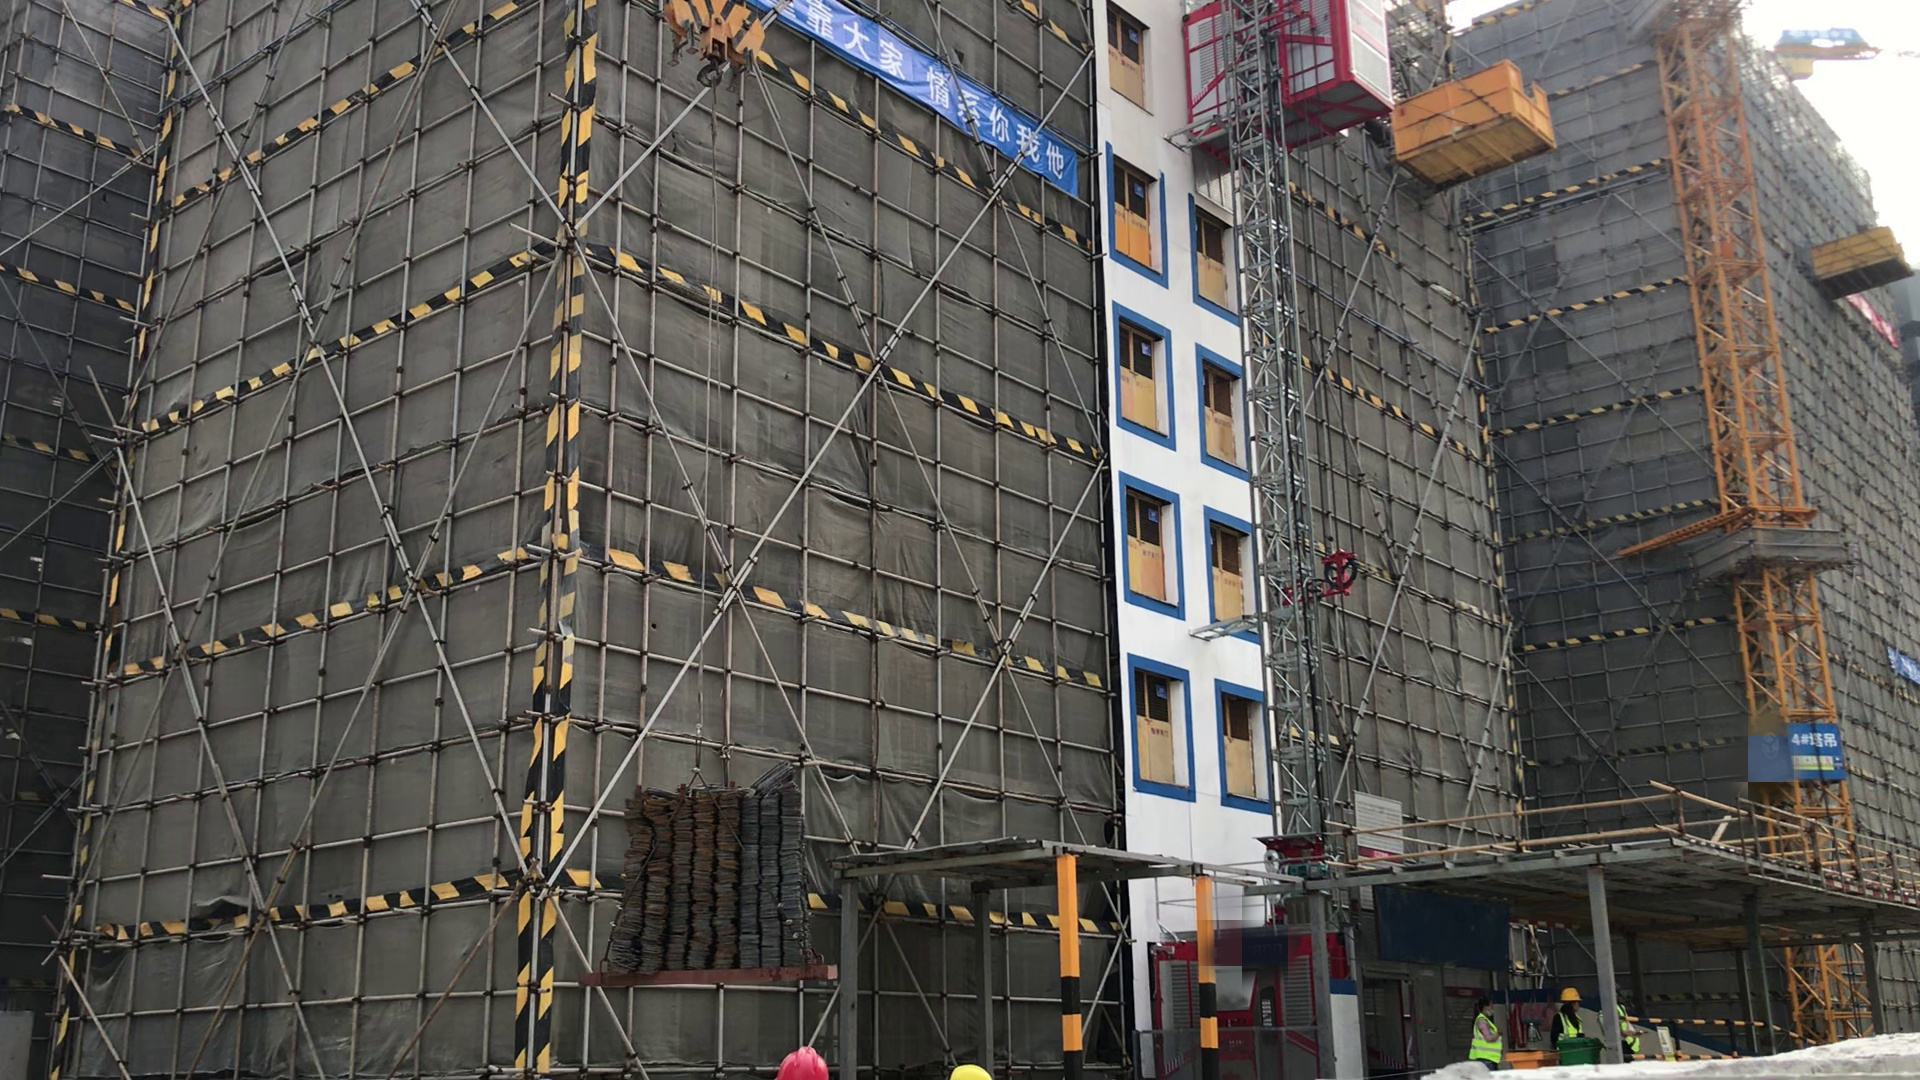helmet: (770, 1043, 836, 1080), (948, 1043, 996, 1080), (1561, 986, 1582, 1004)
hook: (667, 1, 773, 96)
person: (1470, 994, 1508, 1079), (1555, 985, 1588, 1044)
slogan: (812, 1, 1094, 192)
vest: (1469, 1013, 1508, 1065), (1615, 1006, 1643, 1055), (1557, 1009, 1586, 1041)
